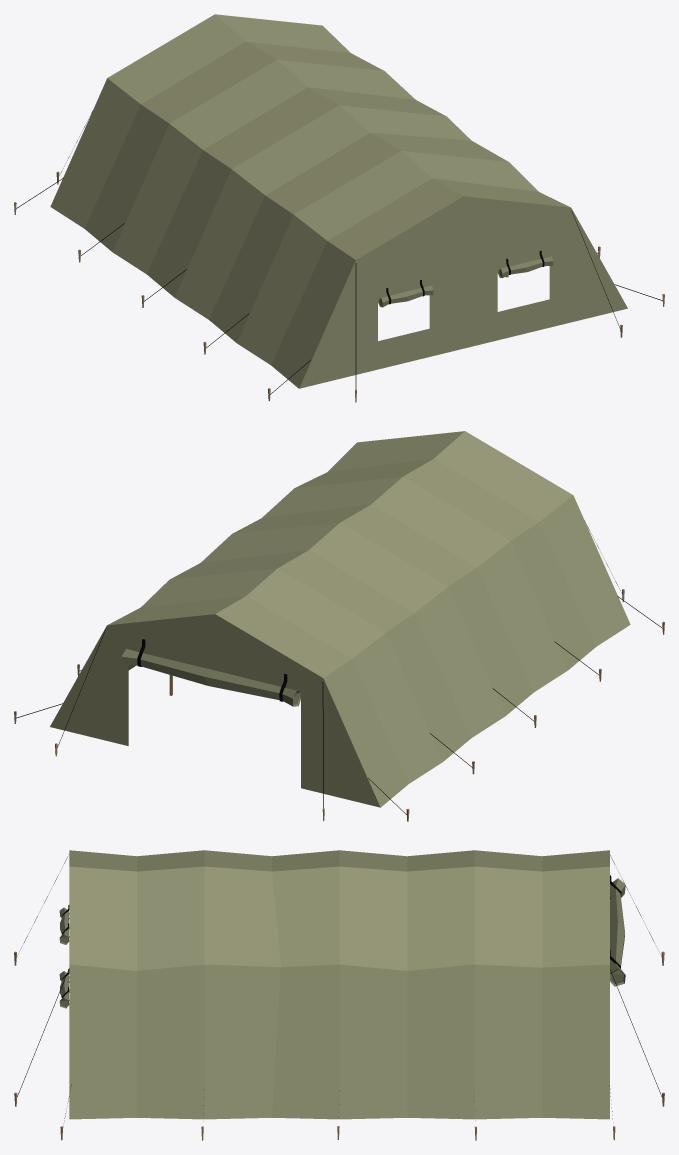
File: camp-props-cube.glb
3 views of the same model, one above another, from view 1: azimuth 30°, elevation 25°; view 2: azimuth 150°, elevation 25°; view 3: azimuth 270°, elevation 25° (orthographic). The views are drawn at different scales.
Parts seen in each view (by area): view 1: camp-props-cube; view 2: camp-props-cube; view 3: camp-props-cube.
Boxes of the visible parts, x1,y1,x2,y2 form: camp-props-cube: (14, 14, 664, 402); camp-props-cube: (14, 431, 664, 821); camp-props-cube: (14, 850, 664, 1140).
Size of the model in its own units: 5.51 by 2.07 by 7.23.
